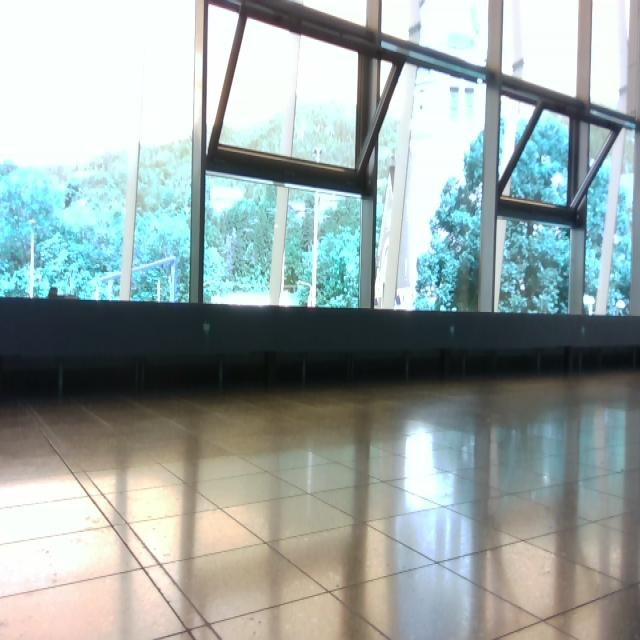door: (2, 1, 640, 638)
light bulb: (583, 295, 595, 315), (616, 300, 626, 310)
tiled floor: (2, 372, 639, 638)
window: (1, 1, 639, 318)
